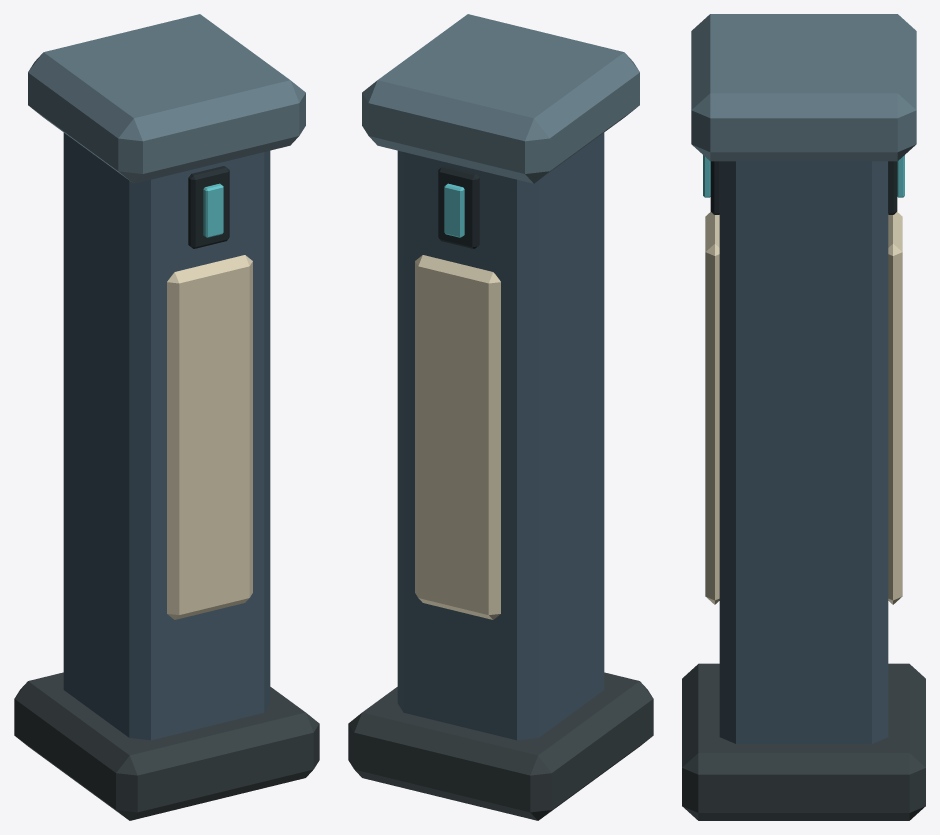
Rendered from emergency-corner-post.glb.
The picture shows the model from 3 angles, left to right: view 1: azimuth 30°, elevation 25°; view 2: azimuth 150°, elevation 25°; view 3: azimuth 270°, elevation 25°; orthographic projection. The views are drawn at different scales.
Parts seen in each view (by area): view 1: emergency-corner-post; view 2: emergency-corner-post; view 3: emergency-corner-post.
Part boxes in pixels (x1,y1,x2,y2): emergency-corner-post: [14, 14, 319, 820]; emergency-corner-post: [348, 14, 653, 820]; emergency-corner-post: [682, 14, 925, 820].
Bounding box in the file's own units: 0.52 × 1.7 × 0.52.
Materials: 1 (1 with a texture image).
